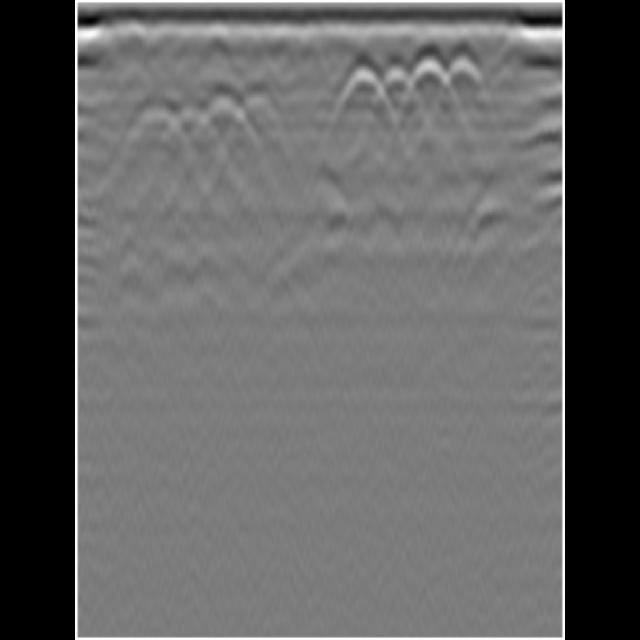hyperbola: (125, 106, 178, 160), (406, 52, 454, 110), (196, 94, 247, 148), (232, 95, 282, 143), (378, 63, 422, 115), (341, 63, 383, 117), (166, 108, 217, 152), (448, 52, 490, 102)
